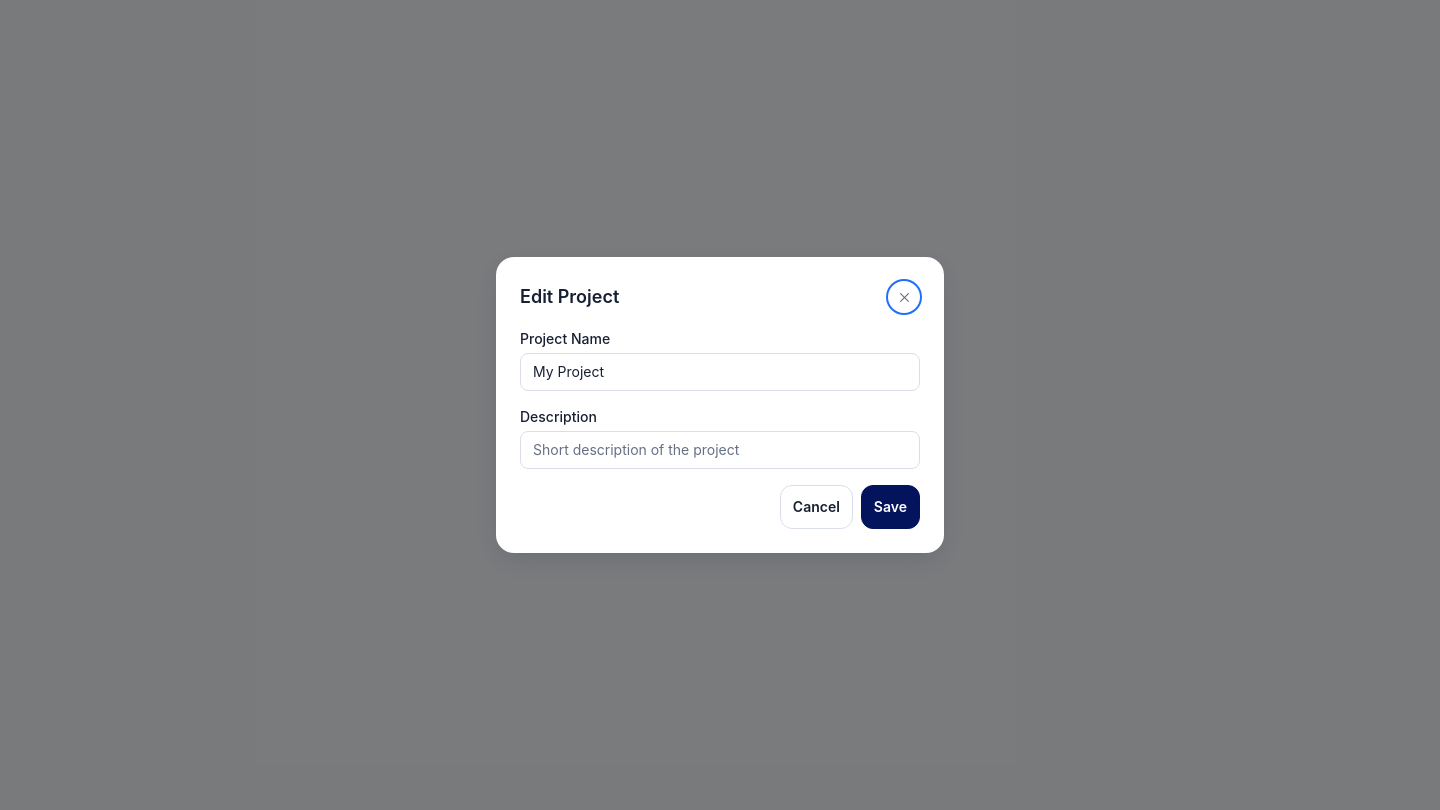
EditProjectDialog › shows error state when updateProject fails with Error
Click the button "Save" at [890, 507], box [861,485,920,529]
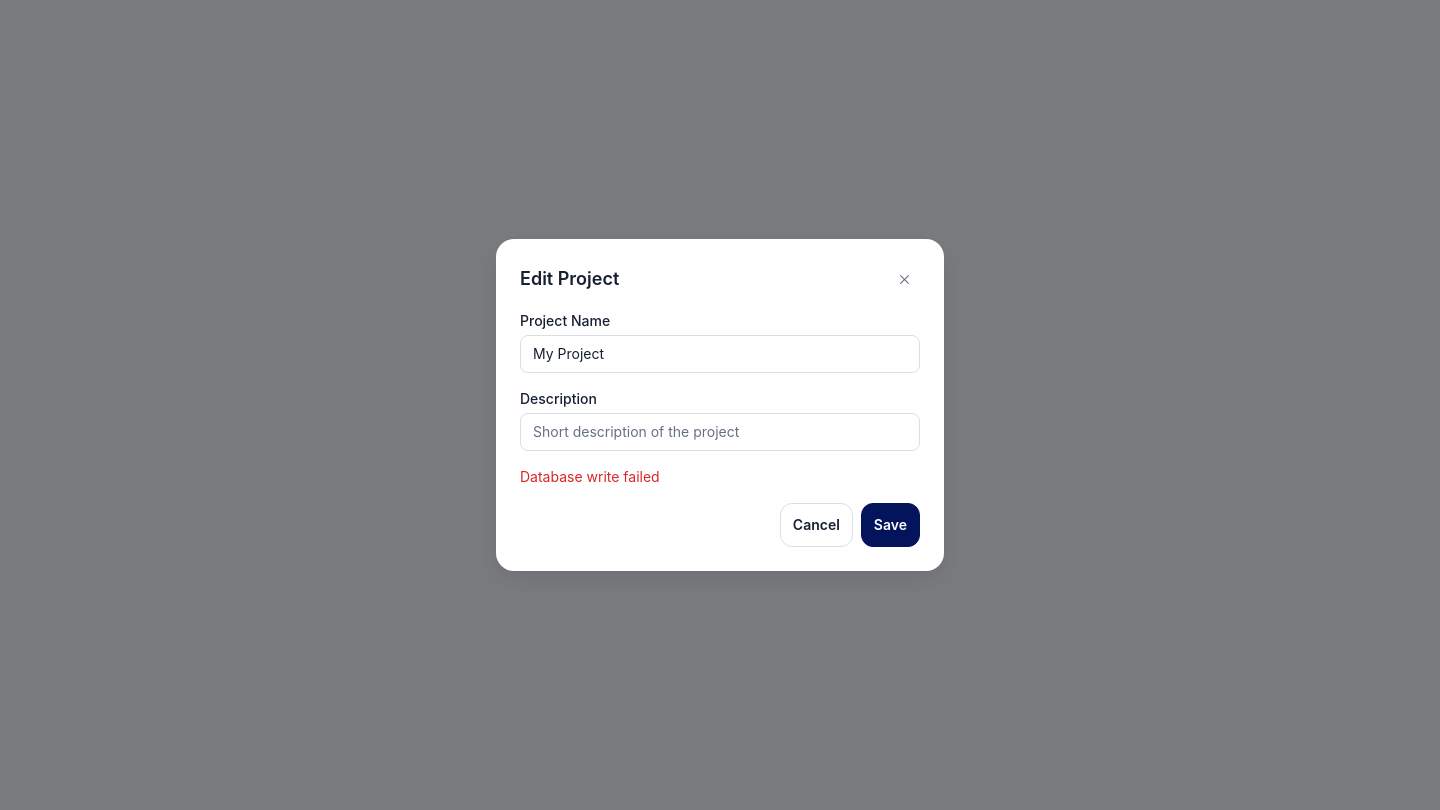
Now the text "Database write failed" is shown, box [520,468,660,485]
